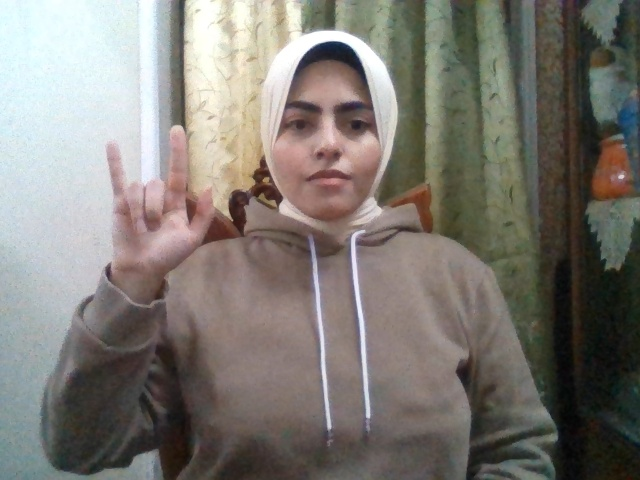iloveyou: (106, 125, 216, 274)
